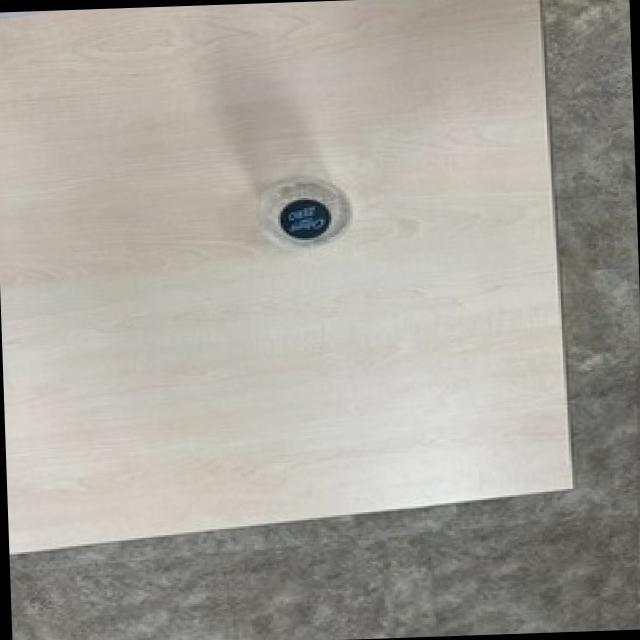good: (251, 169, 352, 254)
